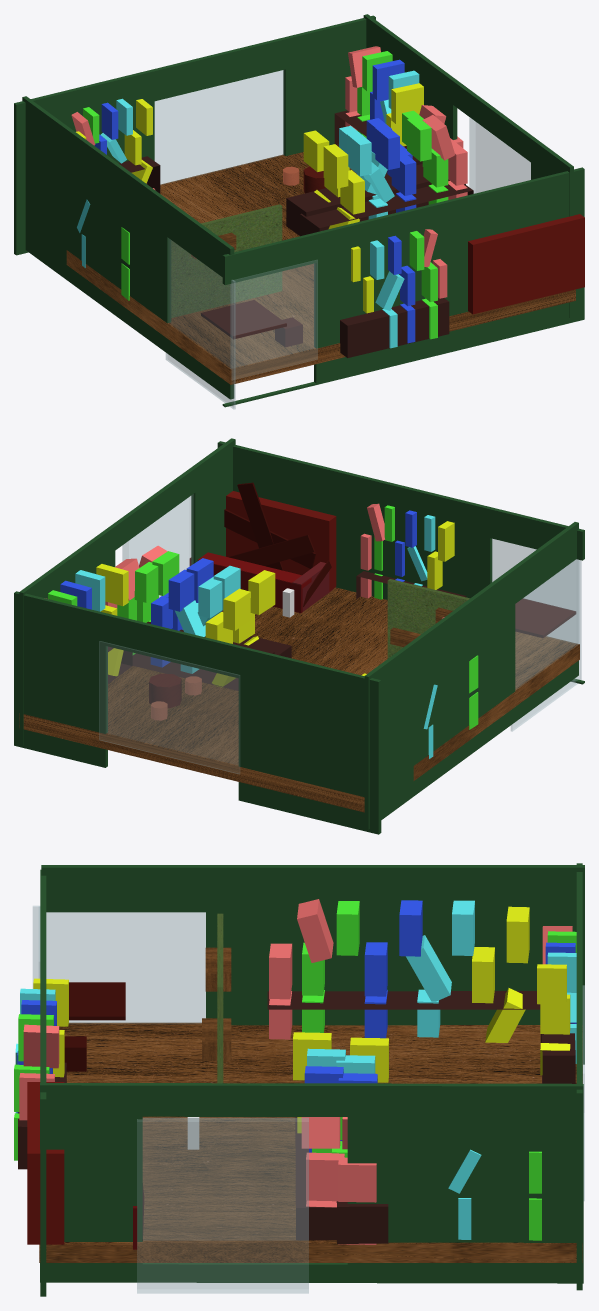
Rendered from scne.glb.
3 renders of one model, top to bottom at view 1: azimuth 30°, elevation 25°; view 2: azimuth 150°, elevation 25°; view 3: azimuth 270°, elevation 25°, orthographic. The views are drawn at different scales.
Visible parts, largest first — view 1: CSGBox3D53, CSGBox3D32, CSGBox3D2, CSGBox3D63, Cube.105, CSGBox3D122, Cube.004, CSGBox3D43, Cube.002, CSGBox3D82, Cube.068, Cube.001 (+32 smaller); view 2: CSGBox3D63, CSGBox3D2, CSGBox3D32, CSGBox3D53, Cube.105, CSGBox3D43, Cube.002, CSGBox3D122, Cube.004, CSGBox3D82, Cube.001, Cube.106 (+24 smaller); view 3: CSGBox3D43, CSGBox3D2, CSGBox3D32, Cube.001, Cube.002, CSGBox3D122, Cube.052, CSGBox3D63, CSGBox3D53, Cube.106, Cube.036, Cube.084 (+40 smaller).
Part boxes in pixels (left/top/right/bottom): CSGBox3D53: left=222, top=167, right=584, bottom=407; CSGBox3D32: left=22, top=96, right=234, bottom=399; CSGBox3D2: left=66, top=152, right=575, bottom=384; CSGBox3D63: left=14, top=15, right=375, bottom=255; Cube.105: left=155, top=70, right=283, bottom=184; CSGBox3D122: left=468, top=214, right=584, bottom=314; Cube.004: left=230, top=260, right=317, bottom=379; CSGBox3D43: left=363, top=14, right=573, bottom=317; Cube.002: left=166, top=238, right=235, bottom=409; CSGBox3D82: left=171, top=204, right=282, bottom=317; Cube.068: left=340, top=298, right=449, bottom=357; Cube.001: left=469, top=117, right=530, bottom=193; CSGBox3D63: left=14, top=591, right=381, bottom=834; CSGBox3D2: left=19, top=587, right=579, bottom=812; CSGBox3D32: left=364, top=522, right=578, bottom=829; CSGBox3D53: left=217, top=441, right=584, bottom=684; Cube.105: left=99, top=641, right=239, bottom=773; CSGBox3D43: left=19, top=438, right=235, bottom=745; Cube.002: left=511, top=559, right=581, bottom=731; CSGBox3D122: left=226, top=491, right=336, bottom=591; Cube.004: left=492, top=539, right=579, bottom=644; CSGBox3D82: left=387, top=579, right=469, bottom=658; Cube.001: left=122, top=494, right=193, bottom=597; Cube.106: left=515, top=598, right=575, bottom=637; CSGBox3D43: left=40, top=1083, right=583, bottom=1283; CSGBox3D2: left=39, top=1022, right=582, bottom=1262; CSGBox3D32: left=41, top=865, right=584, bottom=1064; Cube.001: left=137, top=1118, right=308, bottom=1293; Cube.002: left=33, top=906, right=205, bottom=1023; CSGBox3D122: left=27, top=1082, right=64, bottom=1244; Cube.052: left=267, top=991, right=540, bottom=1009; CSGBox3D63: left=576, top=863, right=582, bottom=1290; CSGBox3D53: left=40, top=869, right=46, bottom=1296; Cube.106: left=69, top=982, right=125, bottom=1020; Cube.036: left=295, top=1117, right=336, bottom=1240; Cube.084: left=336, top=1201, right=388, bottom=1243.
Bounding box in the file's own units: 12.64 × 5.31 × 13.13.
21 materials, 6 textured.
